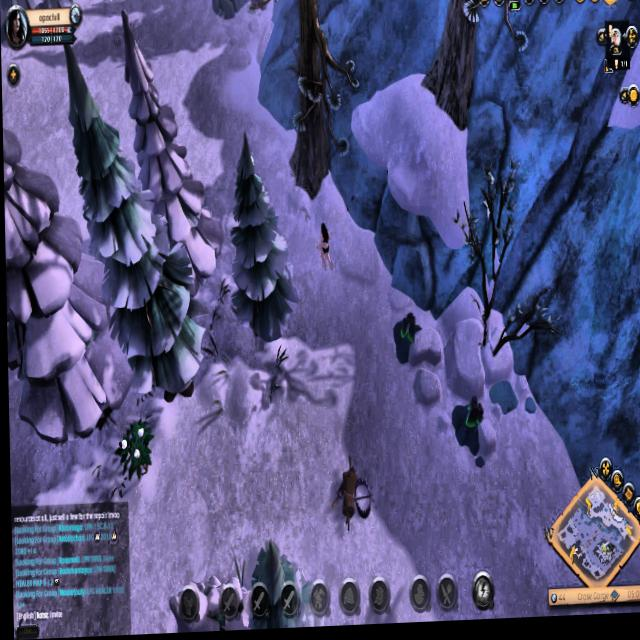flax: (113, 418, 154, 487)
tin_ore: (450, 393, 487, 464), (388, 313, 422, 375)
